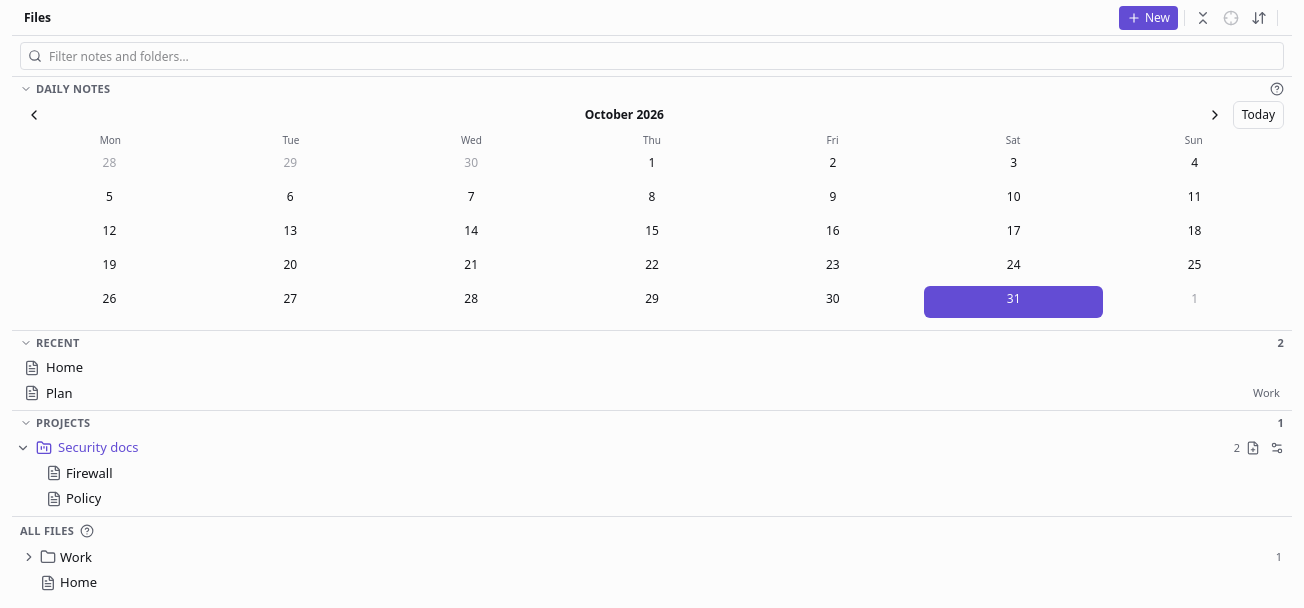
FilesPanel › says so when nothing matches, and Escape clears the filter
This screenshot has width=1304, height=608.
In the field named "Filter the file tree": (652, 56) x1=20 y1=42 x2=1284 y2=70, type "zzzz"
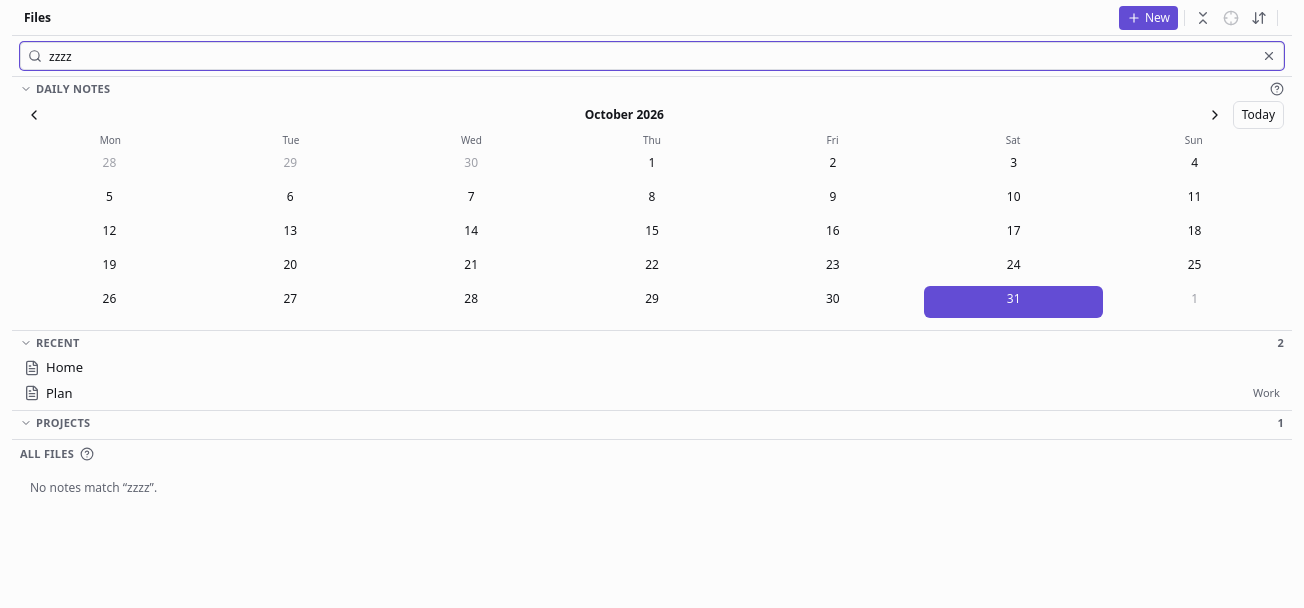
Check: the text "No notes match “zzzz”." is shown, box x1=30 y1=479 x2=157 y2=496
Press Escape
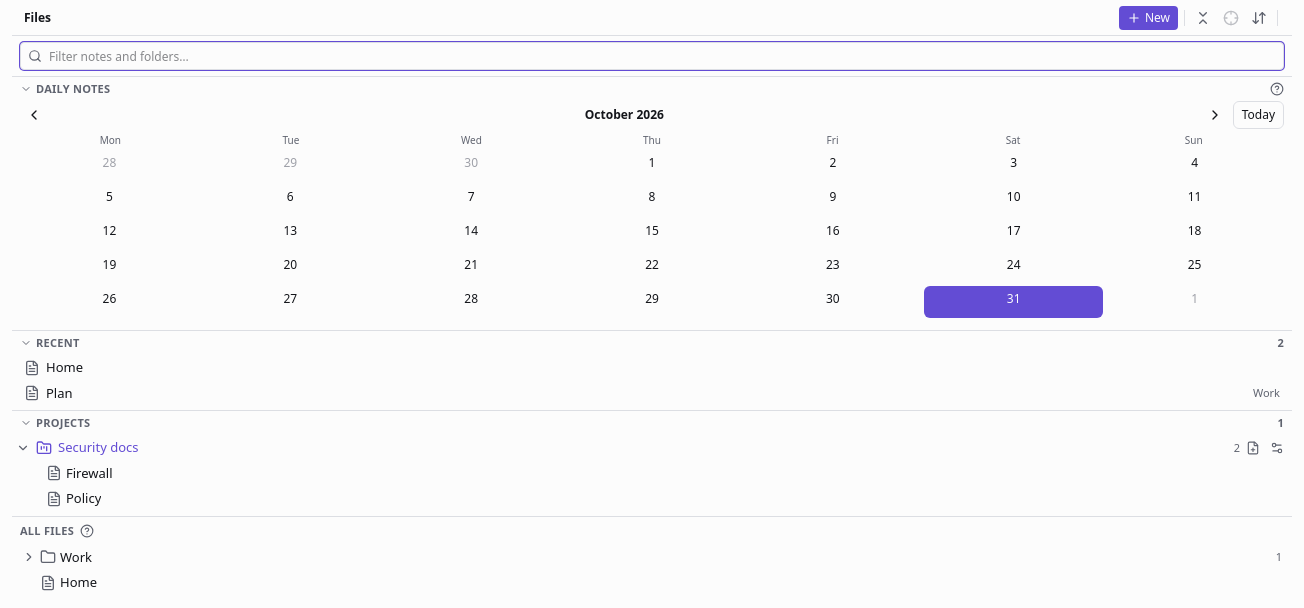
Check: the field named "Filter the file tree" is empty, box x1=20 y1=42 x2=1284 y2=70
Check: the list item with test id "tree-Home.md" is shown, box x1=40 y1=573 x2=97 y2=591
